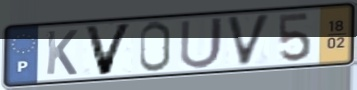0: (137, 19, 173, 75)
5: (277, 10, 314, 64)
K: (44, 28, 80, 77)
U: (177, 15, 226, 71)
V: (82, 21, 136, 77), (224, 12, 274, 68)
